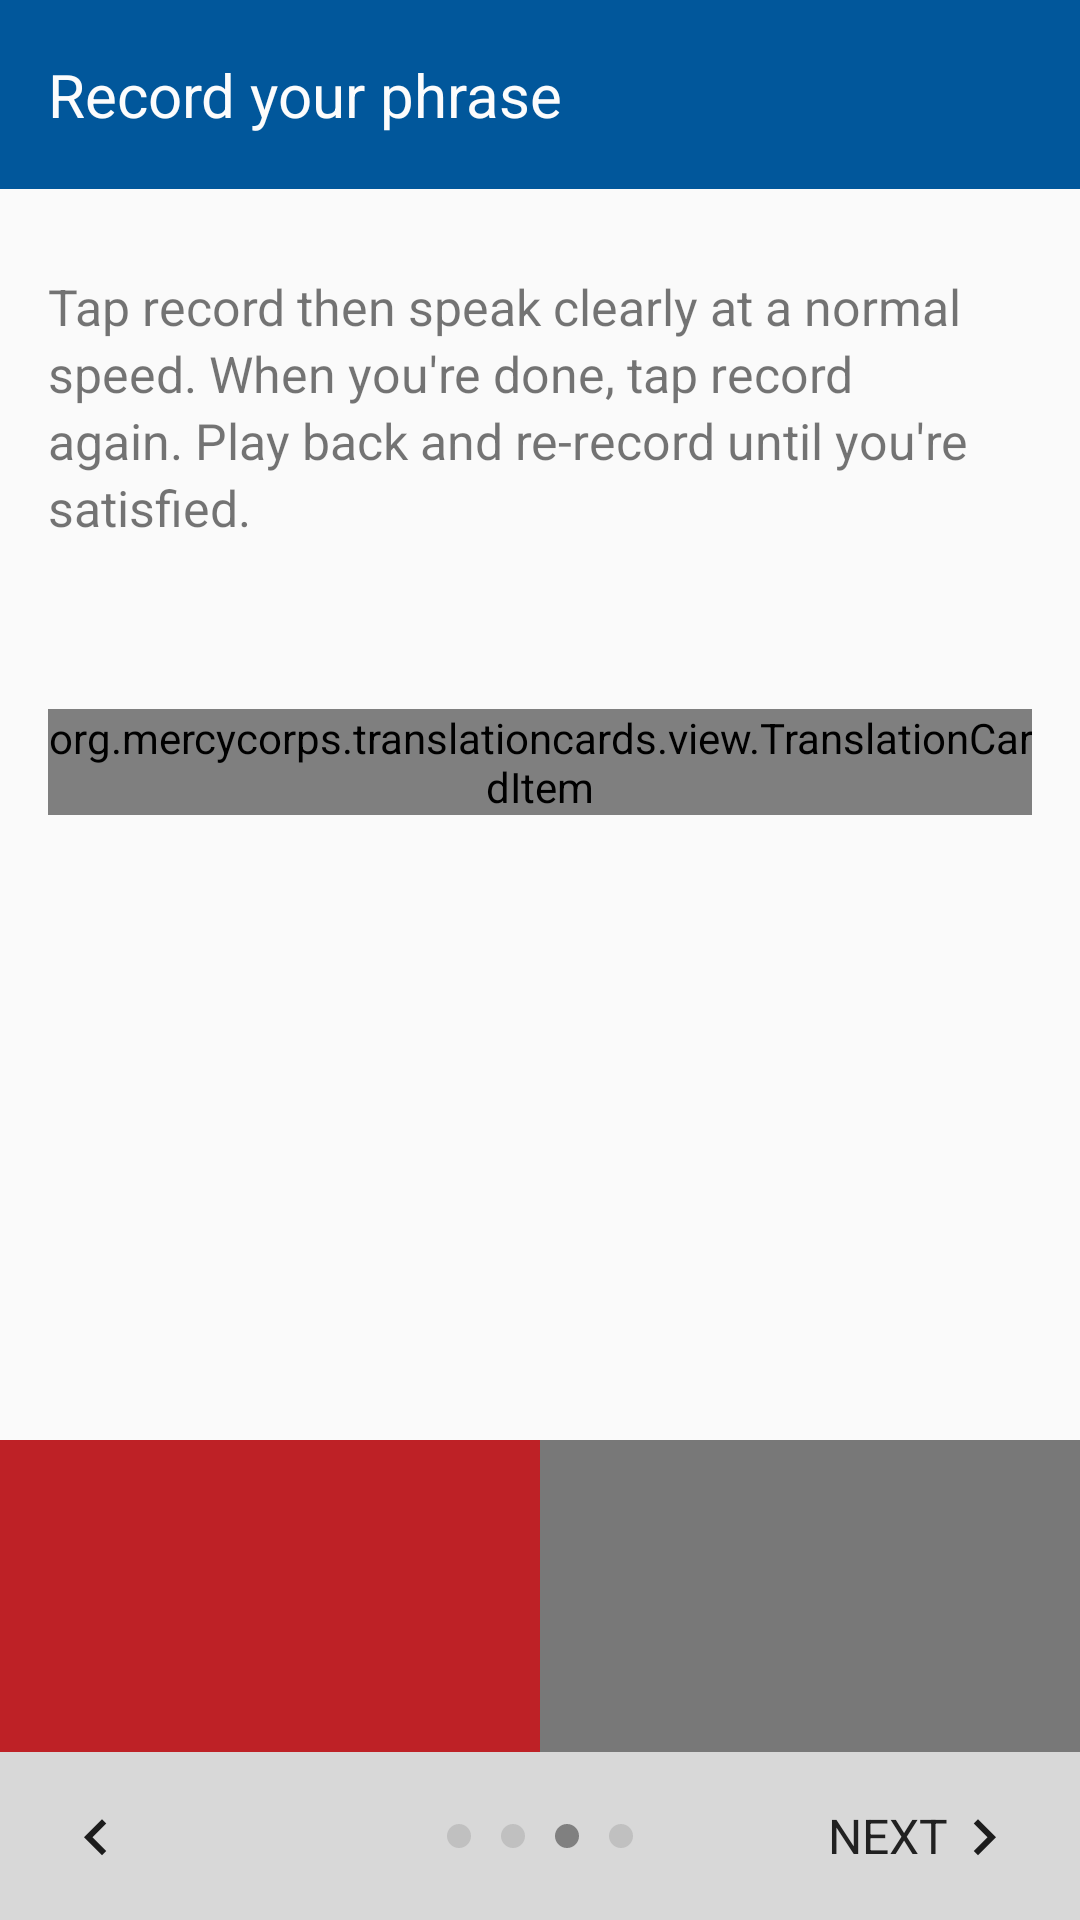

Where icons sit on this 1080 x 1920 app screen, as (x1, y1, x2, y2):
back arrow: (84, 1819, 106, 1855)
forward arrow: (974, 1819, 996, 1855)
